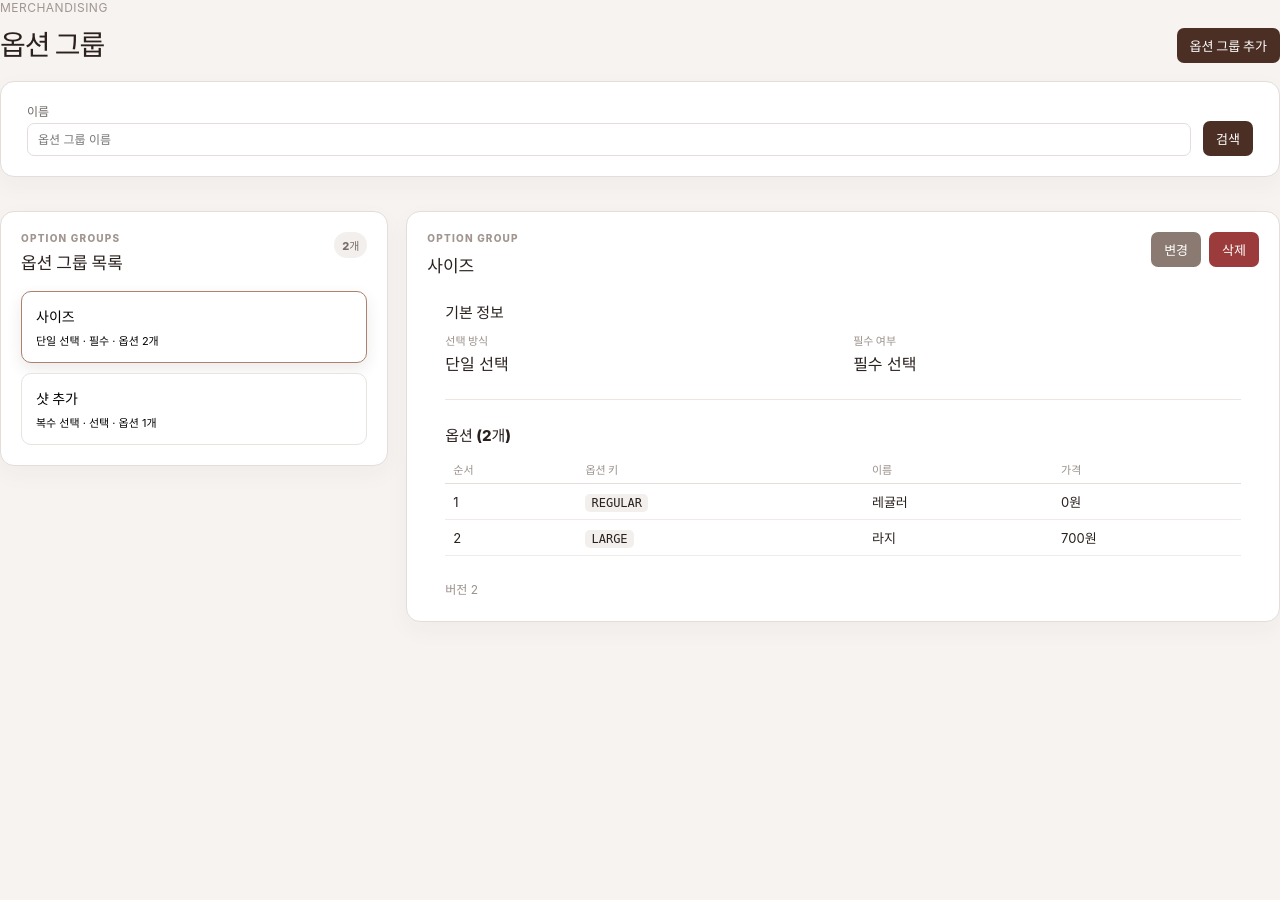
Test: OptionGroupsPage › 삭제는 확인 모달을 거친 뒤에만 요청하고 성공하면 토스트로 알린다
The image size is (1280, 900).
Click the button "삭제": point(1234, 250) [1209,232,1259,267]
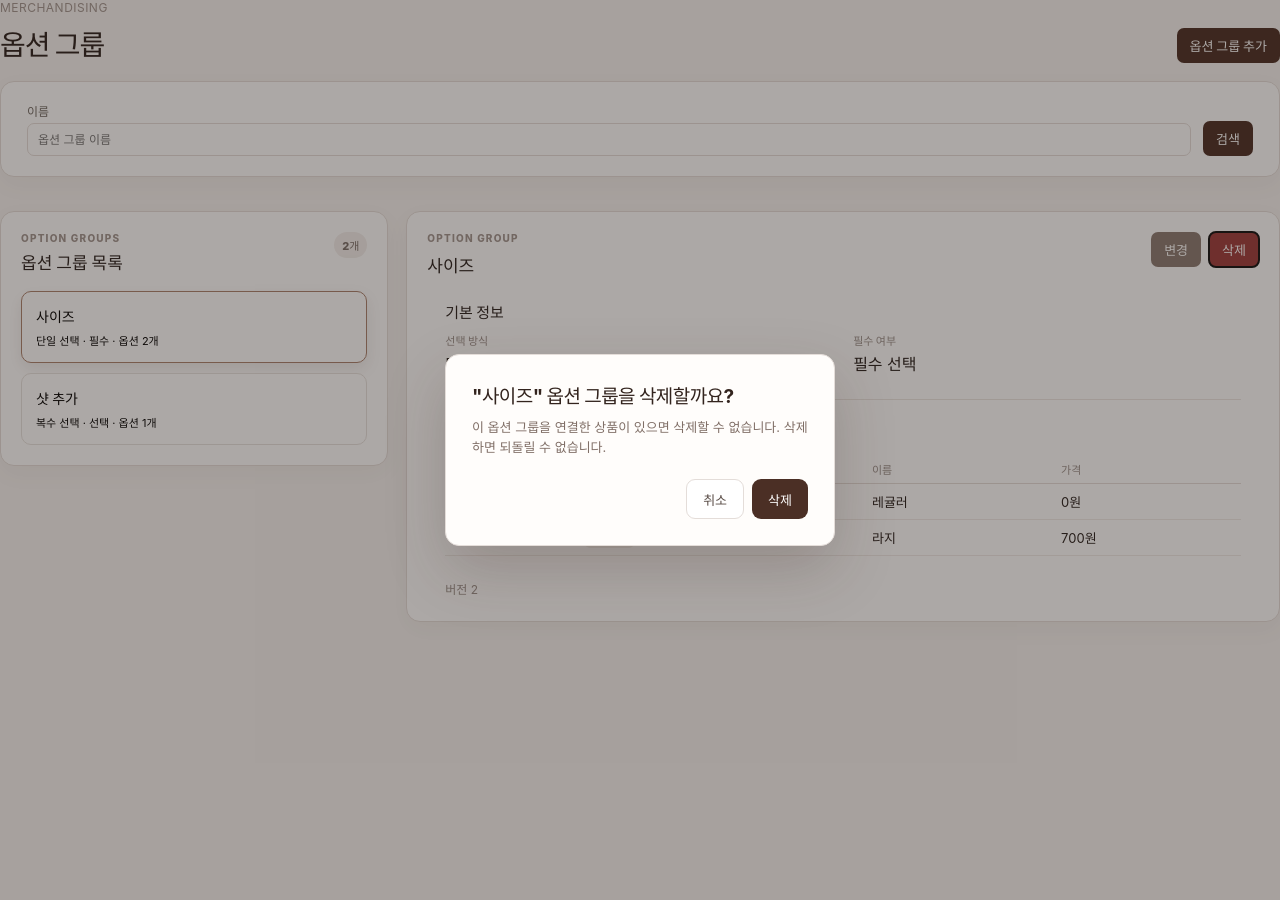
Expected: the text "이 옵션 그룹을 연결한 상품이 있으면 삭제할 수 없습니다. 삭제하면 되돌릴 수 없습니다." is shown, [472,417,808,457]
Click the button "삭제": point(780, 499) [752,479,808,519]
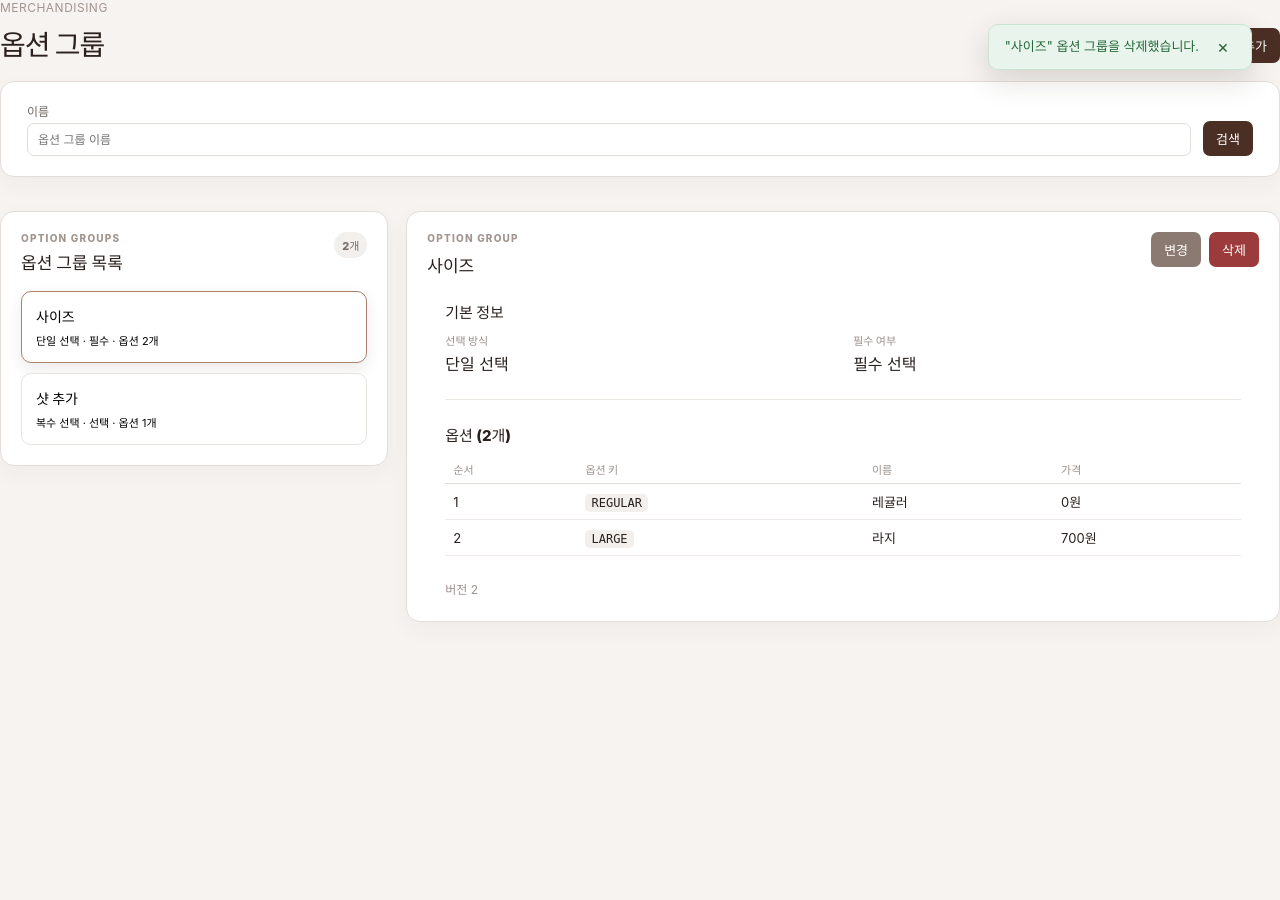
Expected: the text "\"사이즈\" 옵션 그룹을 삭제했습니다." is shown, [1005,38,1199,54]
